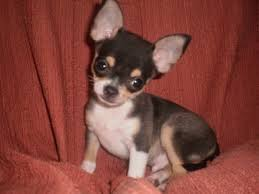chihuahua: (71, 2, 231, 178)
